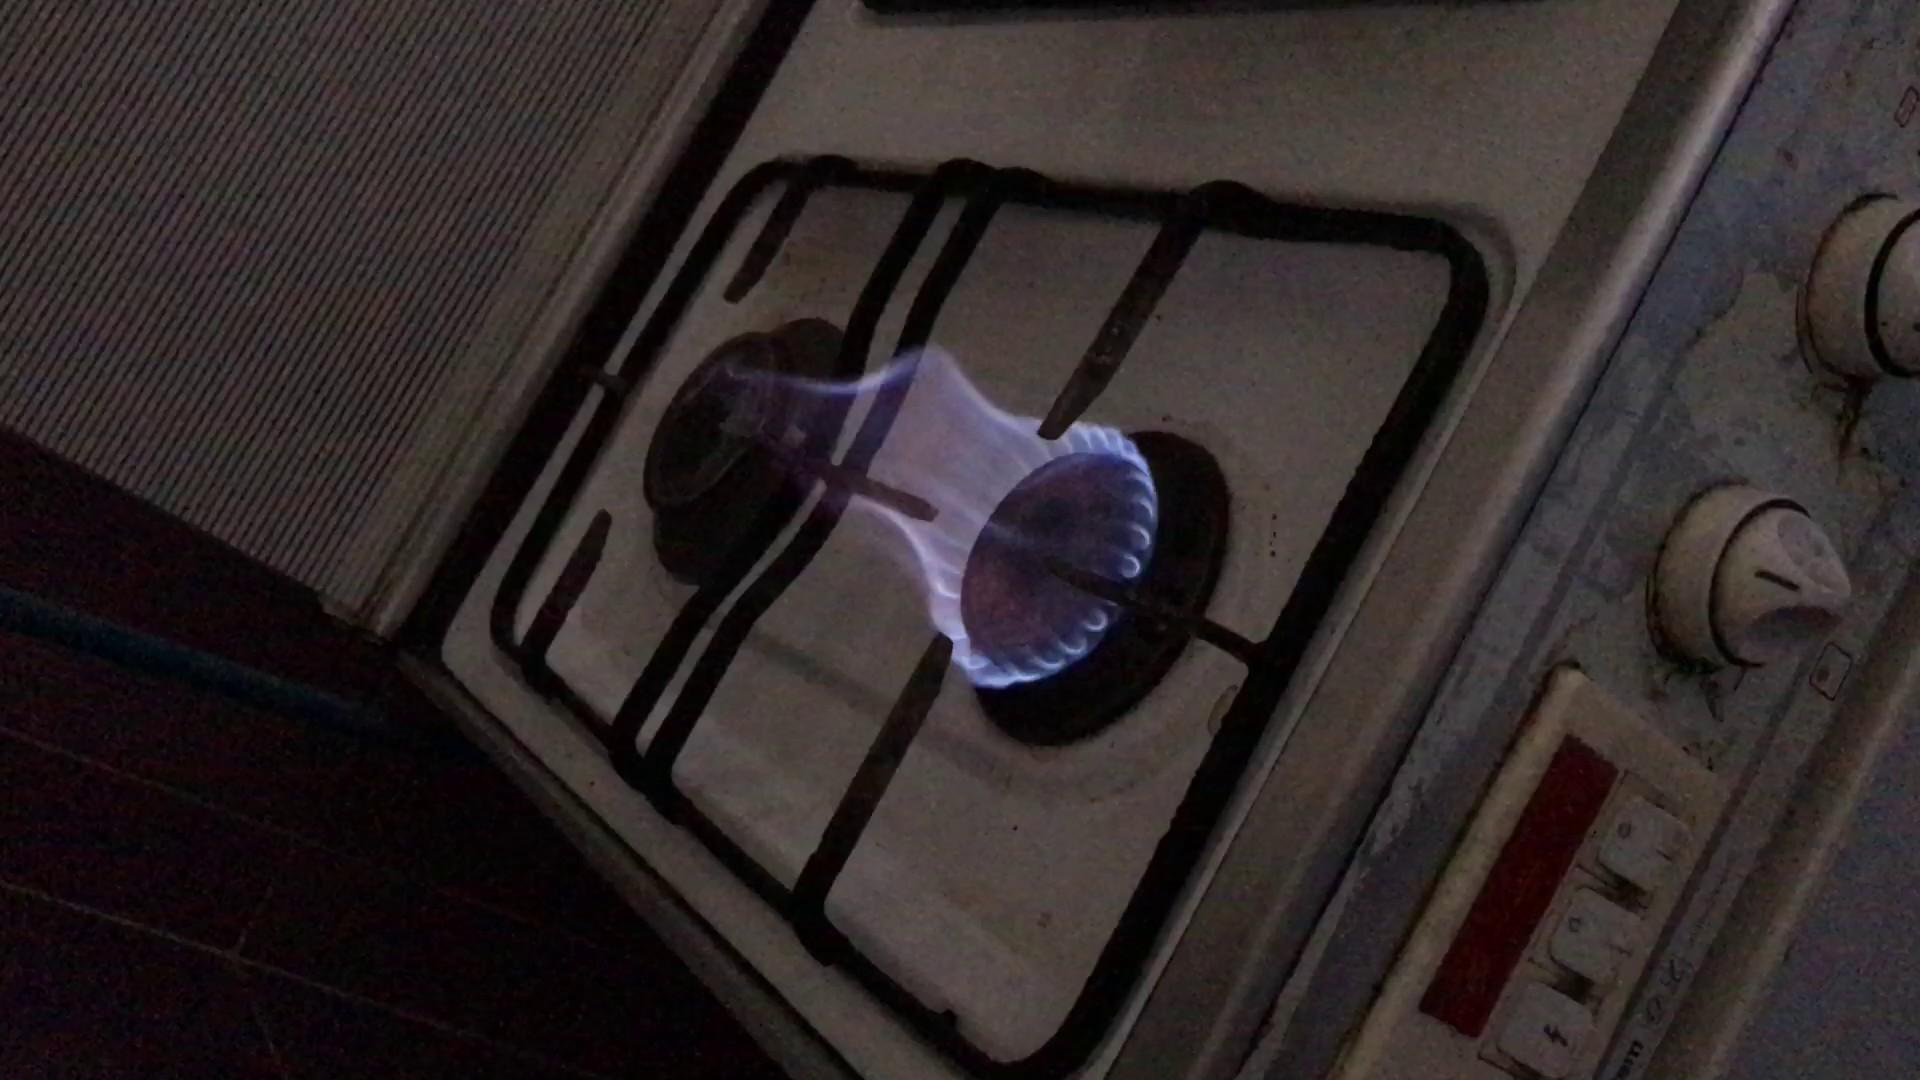fire: (708, 326, 1192, 690)
